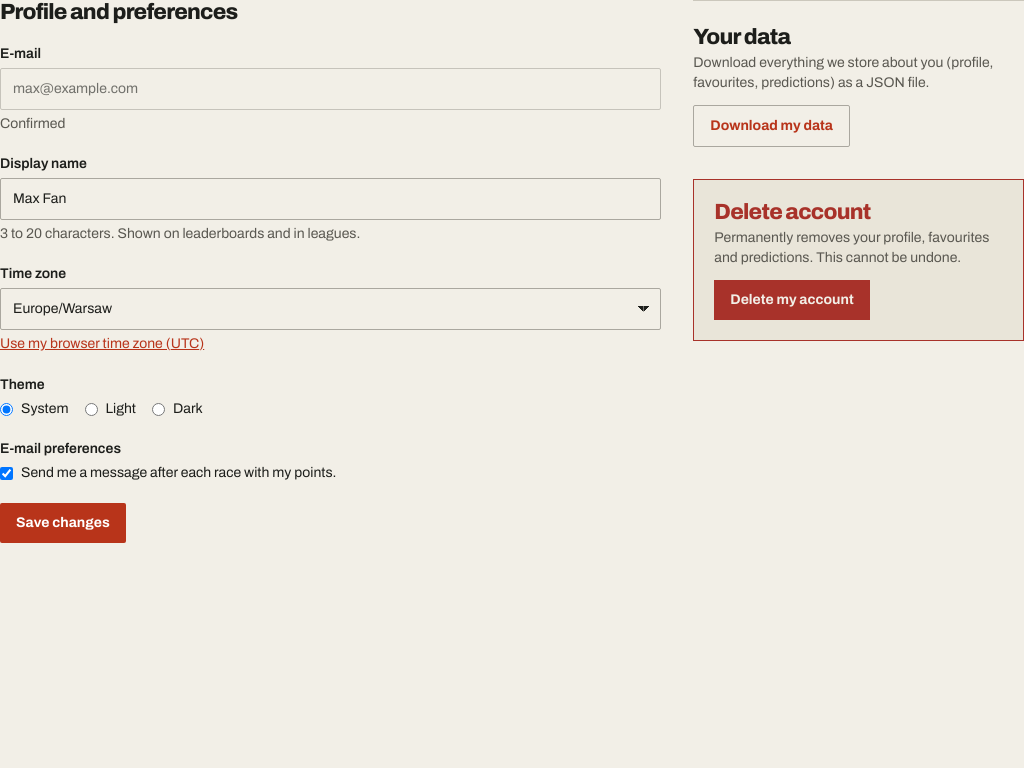
Scenario: settings › saves only through PATCH with the CSRF header and applies the theme
Replace the text in the field labelled "Display name" with "Max Racer" at (331, 199), box [0, 178, 661, 220]
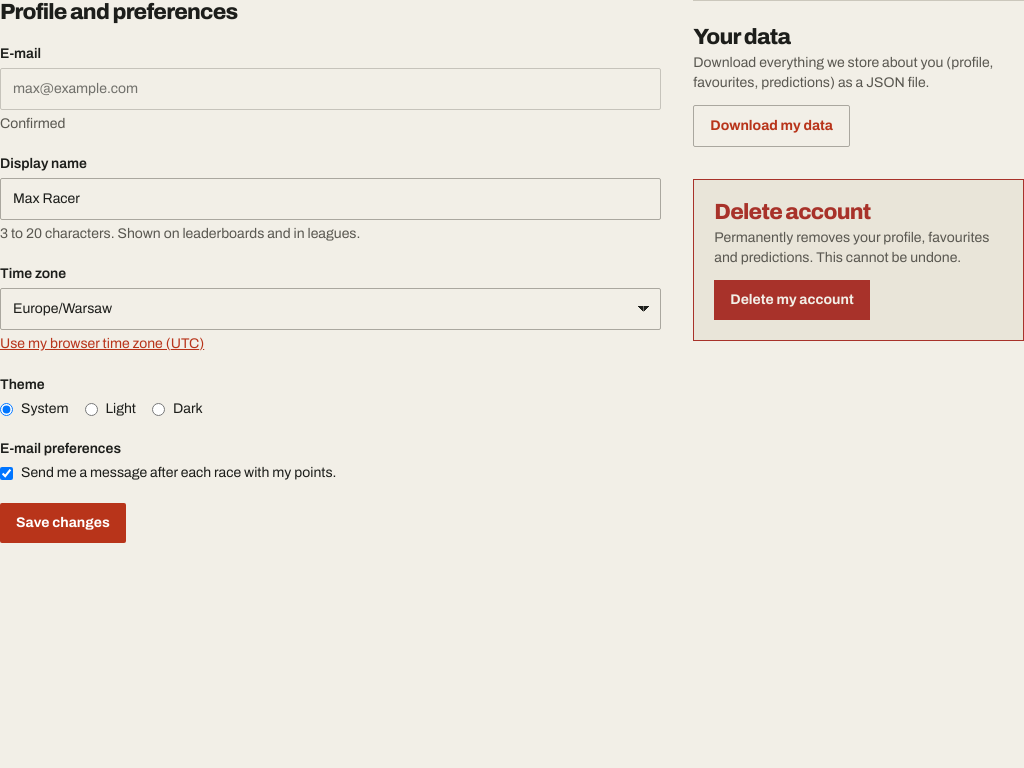
Click the radio button labelled "dark".
click(158, 409)  # box [152, 403, 165, 416]
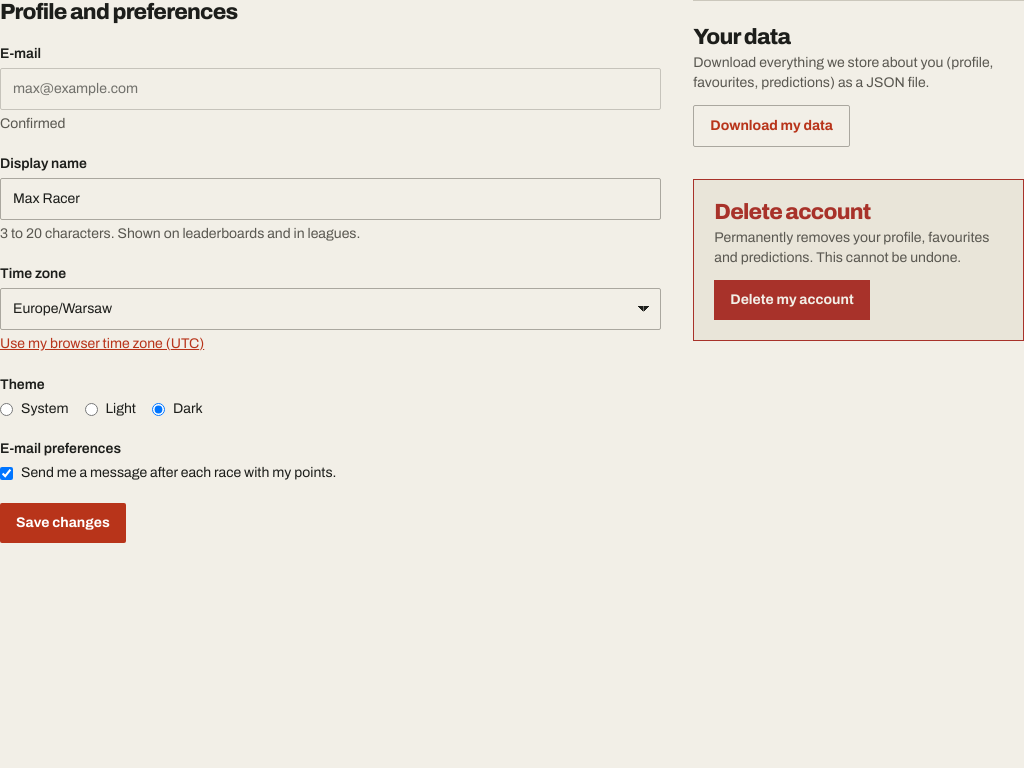
Click the checkbox labelled "Send me a message after each race with my points.".
click(6, 474)  # box [0, 467, 13, 480]
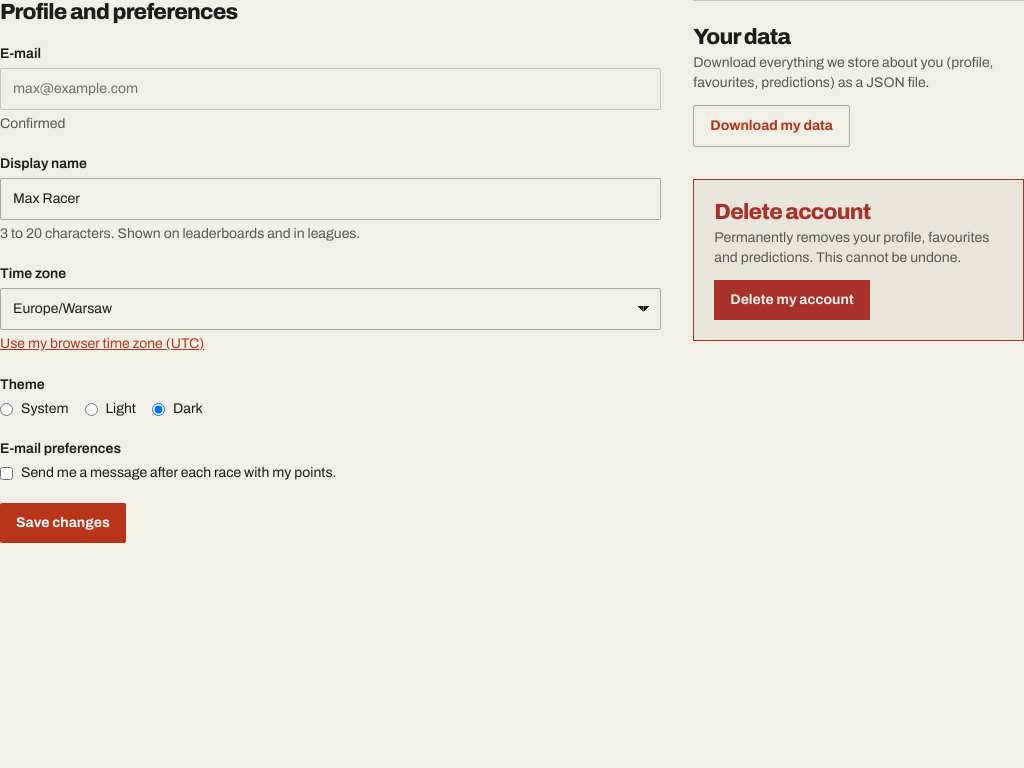
Click the button "Save changes".
click(63, 523)  # box [0, 503, 126, 543]
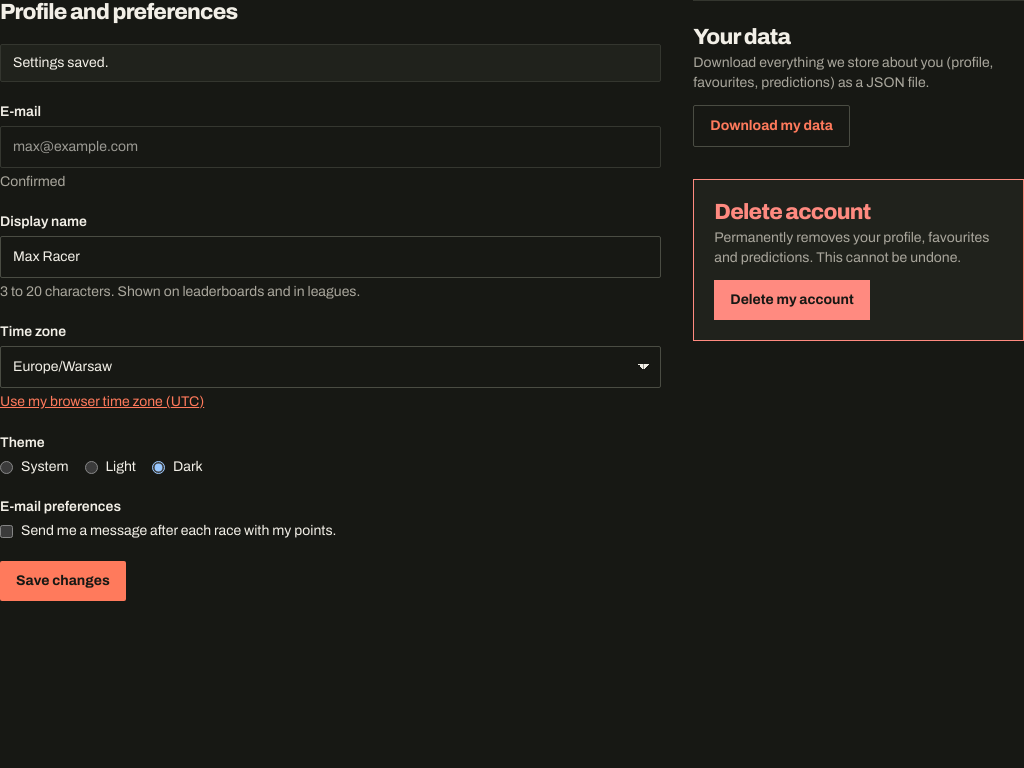
expect the text "Settings saved." is shown: met, box [0, 44, 661, 82]
